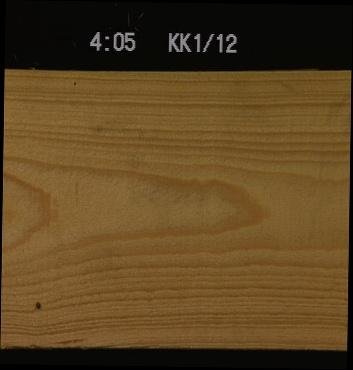dry_knot: (34, 299, 41, 310)
